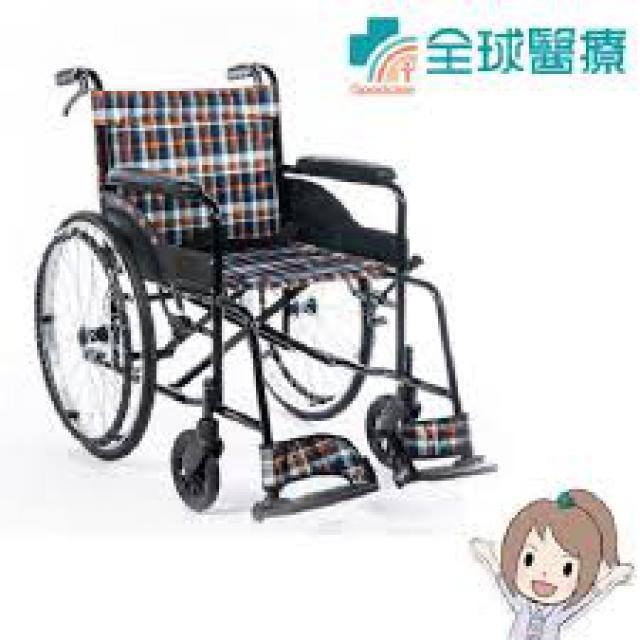wheelchair: (19, 54, 507, 526)
